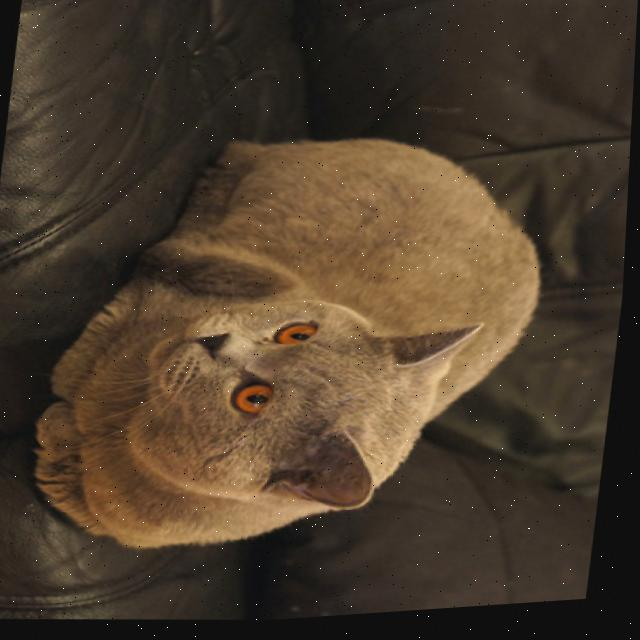British Shorthair: (22, 107, 565, 586)
